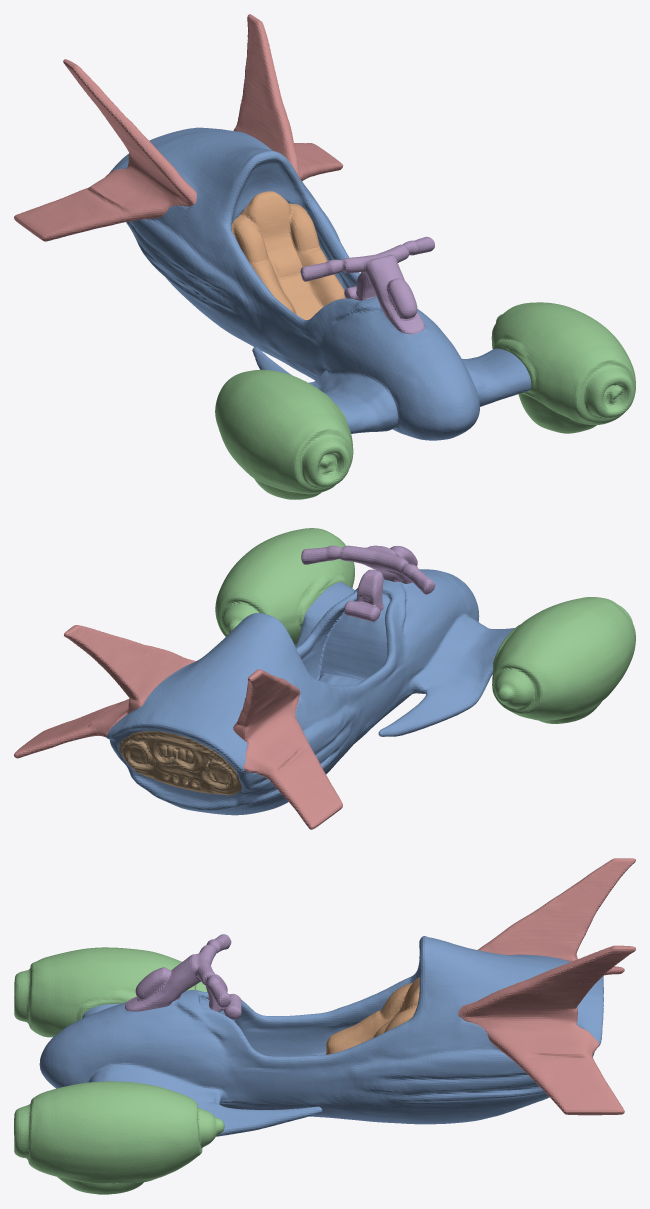
The model's file is antigrav_speeder_4.glb.
3 views of the same model, one above another, from view 1: azimuth 30°, elevation 25°; view 2: azimuth 150°, elevation 25°; view 3: azimuth 270°, elevation 25° (orthographic).
Visible parts, largest first — view 1: Sleek_fuselage_body, anti-grav_engine_pods, stabilizer_fins, open_cockpit, control_handlebars; view 2: Sleek_fuselage_body, anti-grav_engine_pods, stabilizer_fins, thrust_vents, control_handlebars; view 3: Sleek_fuselage_body, anti-grav_engine_pods, stabilizer_fins, control_handlebars, open_cockpit.
Part boxes in pixels (<box>): Sleek_fuselage_body: <box>109,127,531,440</box>; anti-grav_engine_pods: <box>215,302,635,499</box>; stabilizer_fins: <box>14,14,343,241</box>; open_cockpit: <box>231,191,345,319</box>; control_handlebars: <box>300,236,434,334</box>; Sleek_fuselage_body: <box>106,569,514,815</box>; anti-grav_engine_pods: <box>215,528,635,723</box>; stabilizer_fins: <box>14,625,342,829</box>; thrust_vents: <box>119,731,241,795</box>; control_handlebars: <box>301,545,435,621</box>; Sleek_fuselage_body: <box>39,936,603,1136</box>; anti-grav_engine_pods: <box>14,947,224,1194</box>; stabilizer_fins: <box>458,858,635,1115</box>; control_handlebars: <box>125,934,241,1019</box>; open_cockpit: <box>326,977,419,1054</box>.
Size of the model in its own units: 1.31 by 0.7362 by 1.92.
